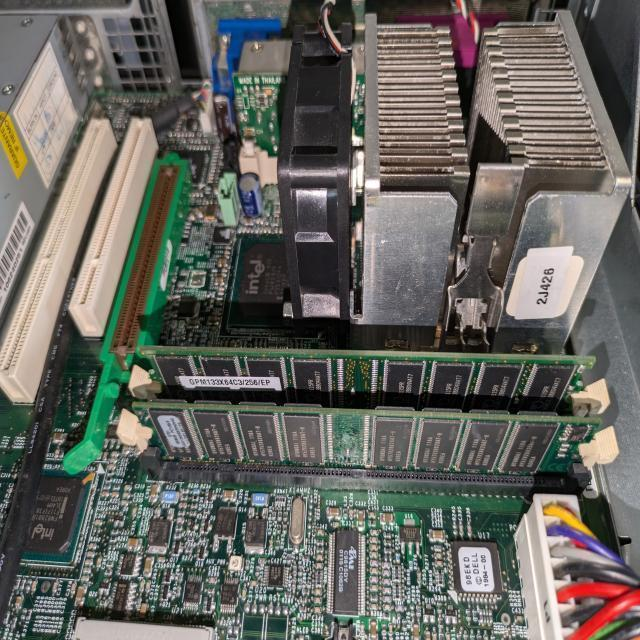CPU_Fan: (278, 8, 632, 351)
Mainboard: (0, 93, 640, 640)
RAM: (111, 396, 620, 502), (128, 346, 613, 406)
